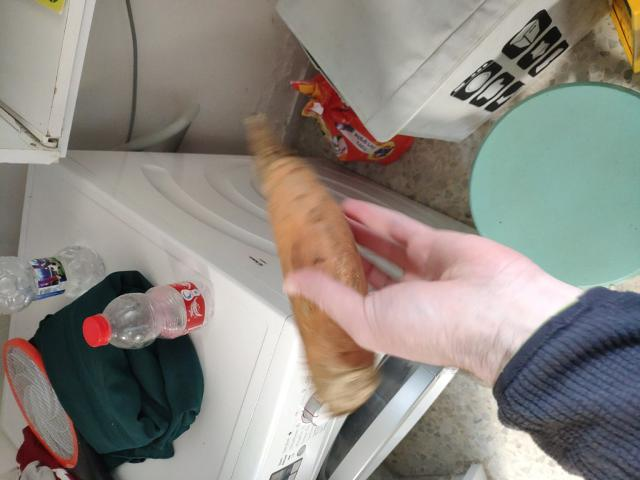sweet_potato: (234, 124, 387, 396)
